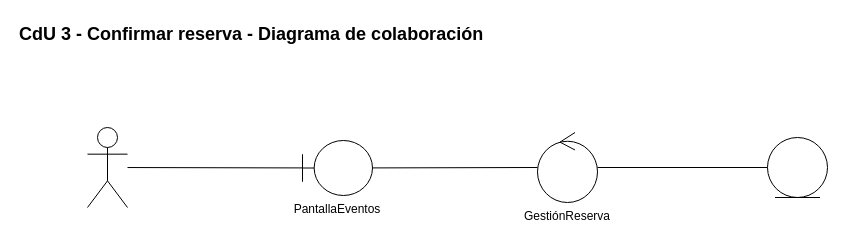
Image size: 845x245. Some labels were removed from this diagram. The shapes that lost their labels are listed below. From the top down, each one's box as (x1, y1, x2, y2) in pixels, then its label:
(86, 126, 128, 208): Estudiante
(766, 136, 828, 198): Reserva
